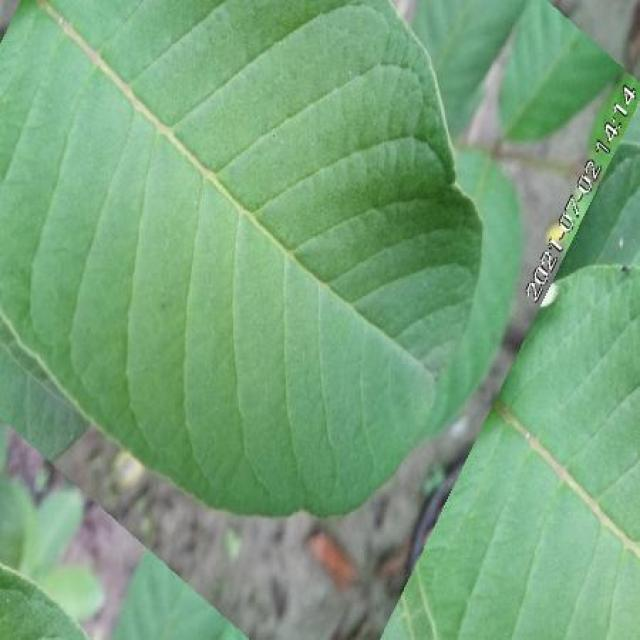Disease Free: (0, 1, 480, 513), (382, 264, 640, 639), (430, 149, 522, 431), (500, 0, 621, 141), (411, 0, 523, 136)
